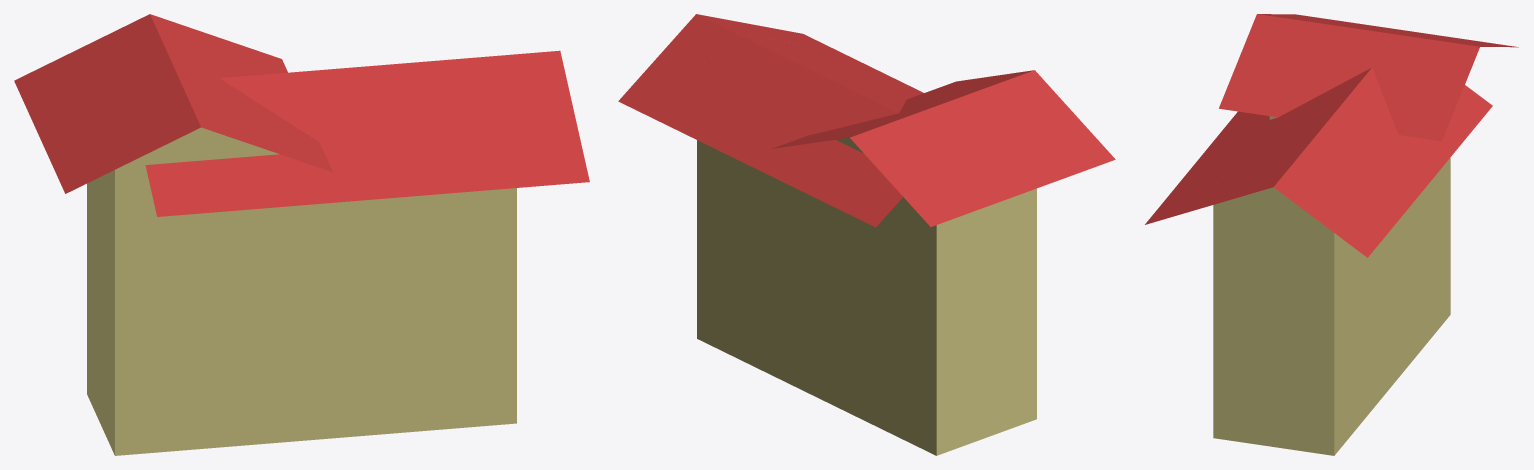
3 renders of one model, left to right at view 1: azimuth 30°, elevation 25°; view 2: azimuth 150°, elevation 25°; view 3: azimuth 270°, elevation 25°, orthographic. The views are drawn at different scales.
Size of the model in its own units: 9.52 by 6.94 by 6.16.
